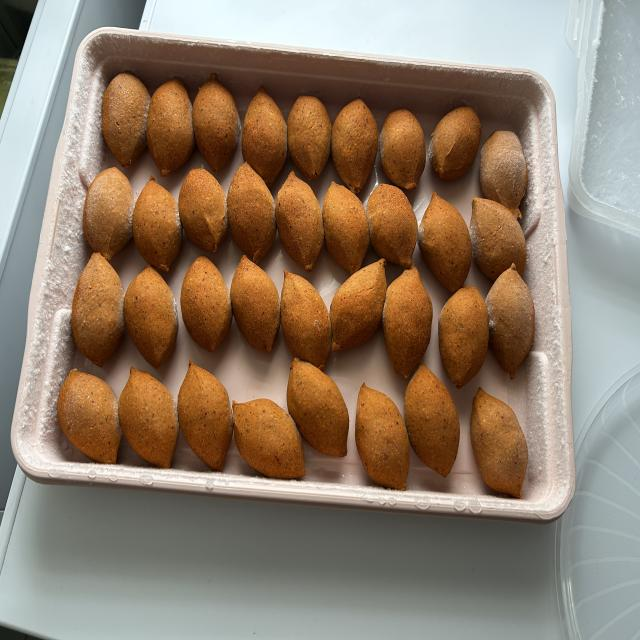kobi: (230, 391, 306, 488), (178, 348, 233, 474), (288, 352, 350, 460), (378, 255, 432, 378), (56, 367, 123, 466), (471, 382, 528, 498), (402, 363, 460, 475), (119, 366, 180, 469), (328, 254, 390, 352), (74, 252, 124, 371), (464, 194, 533, 279), (488, 264, 540, 372), (440, 279, 492, 383), (181, 248, 231, 356), (273, 162, 323, 268), (480, 120, 531, 223), (359, 384, 407, 493), (277, 272, 333, 364), (146, 74, 194, 180), (190, 73, 240, 174), (227, 161, 279, 258), (124, 264, 176, 361), (102, 63, 149, 168), (364, 181, 418, 270), (129, 181, 181, 273), (421, 196, 472, 289), (335, 88, 378, 197), (240, 89, 289, 184), (84, 159, 129, 262), (232, 260, 280, 354), (382, 101, 426, 202), (325, 181, 369, 272), (183, 159, 226, 251), (436, 97, 478, 182), (290, 91, 328, 180)
